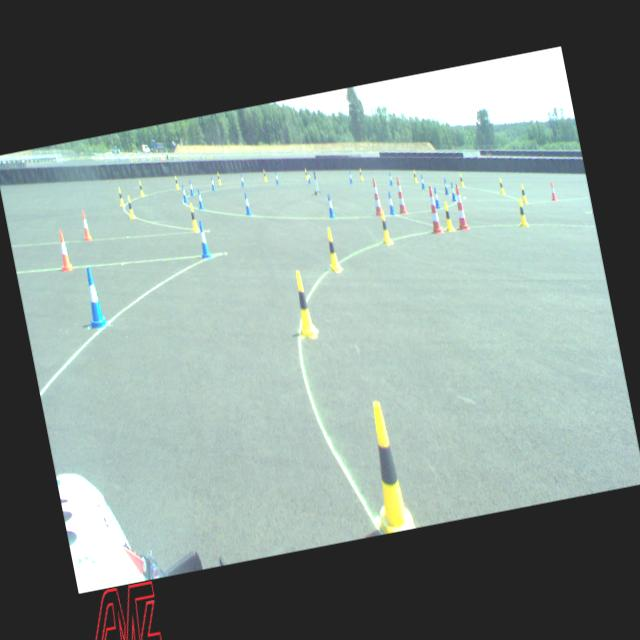blue_cone: (79, 266, 109, 330), (196, 220, 212, 260), (325, 193, 336, 219), (386, 191, 396, 216), (243, 192, 252, 216), (196, 188, 205, 210), (449, 182, 457, 202), (432, 188, 440, 208), (442, 178, 450, 195), (181, 184, 188, 202), (420, 174, 426, 190), (188, 180, 194, 196), (210, 177, 216, 190), (306, 171, 312, 183), (388, 172, 393, 185), (348, 170, 353, 183), (240, 174, 245, 186), (274, 172, 279, 184)
large_orange_cone: (422, 184, 444, 236), (450, 183, 470, 231), (393, 177, 407, 214), (369, 177, 382, 216)
orange_cone: (55, 230, 73, 272), (79, 210, 92, 242), (549, 182, 558, 202)
yellow_cone: (355, 398, 417, 534), (288, 270, 318, 340), (323, 227, 342, 274), (378, 210, 393, 246), (441, 201, 455, 232), (187, 203, 199, 233), (516, 198, 528, 227), (126, 195, 136, 219), (519, 183, 528, 204), (117, 187, 125, 206), (498, 178, 505, 195), (138, 180, 144, 197), (458, 172, 464, 188), (174, 176, 180, 188), (358, 168, 364, 180), (262, 170, 268, 182), (216, 172, 222, 184), (413, 170, 418, 182), (304, 168, 308, 180)
